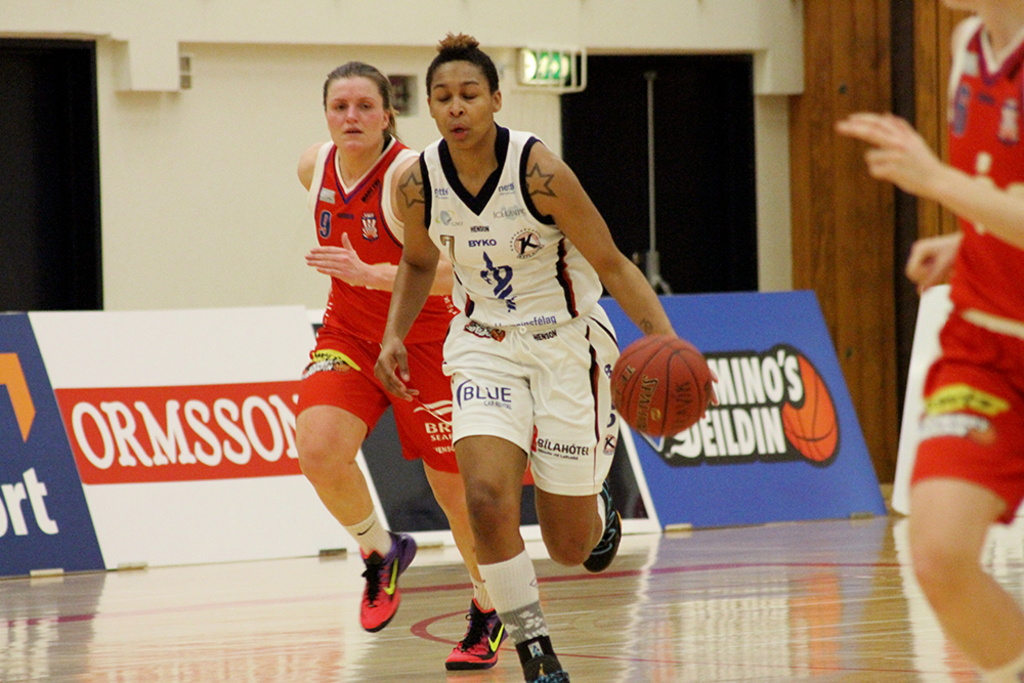Ball: (606, 330, 712, 437), (779, 357, 840, 465)
